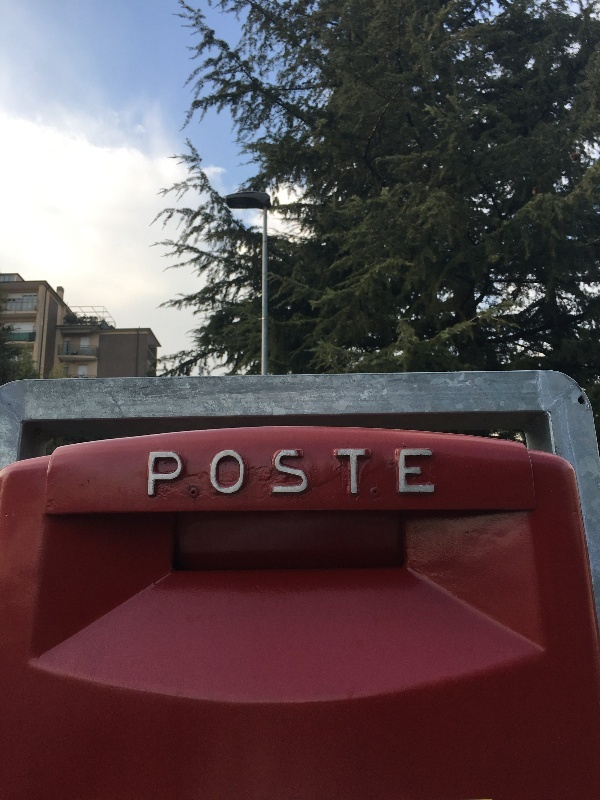text: (161, 449, 176, 502), (177, 449, 192, 502), (193, 449, 208, 502), (209, 449, 224, 502), (225, 449, 240, 502), (241, 449, 256, 502), (257, 449, 272, 502), (273, 449, 288, 502), (289, 449, 304, 502), (305, 449, 320, 502), (321, 449, 336, 502), (337, 449, 352, 502), (353, 449, 368, 502), (369, 449, 384, 502), (385, 449, 400, 502), (401, 449, 416, 502), (417, 449, 432, 502), (149, 449, 160, 502), (433, 449, 437, 502)
